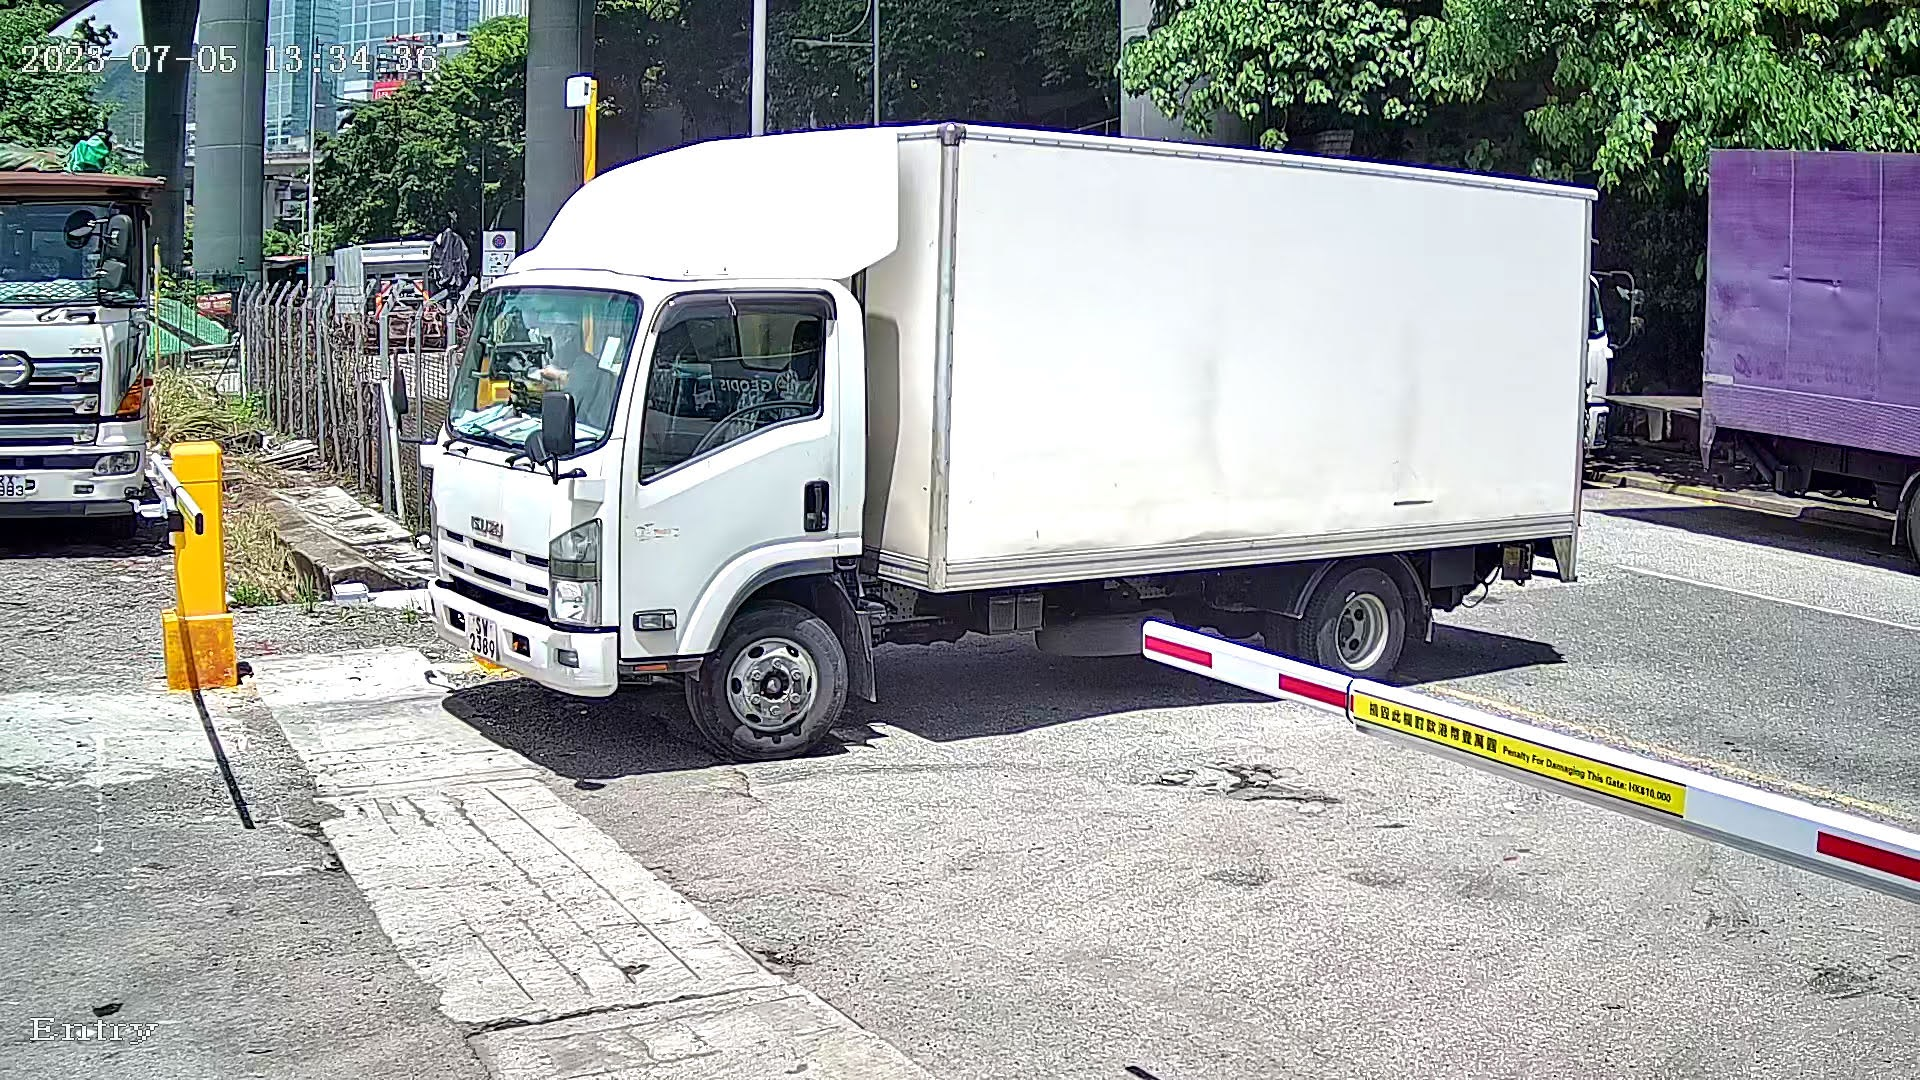truck_small: (398, 69, 1634, 785)
